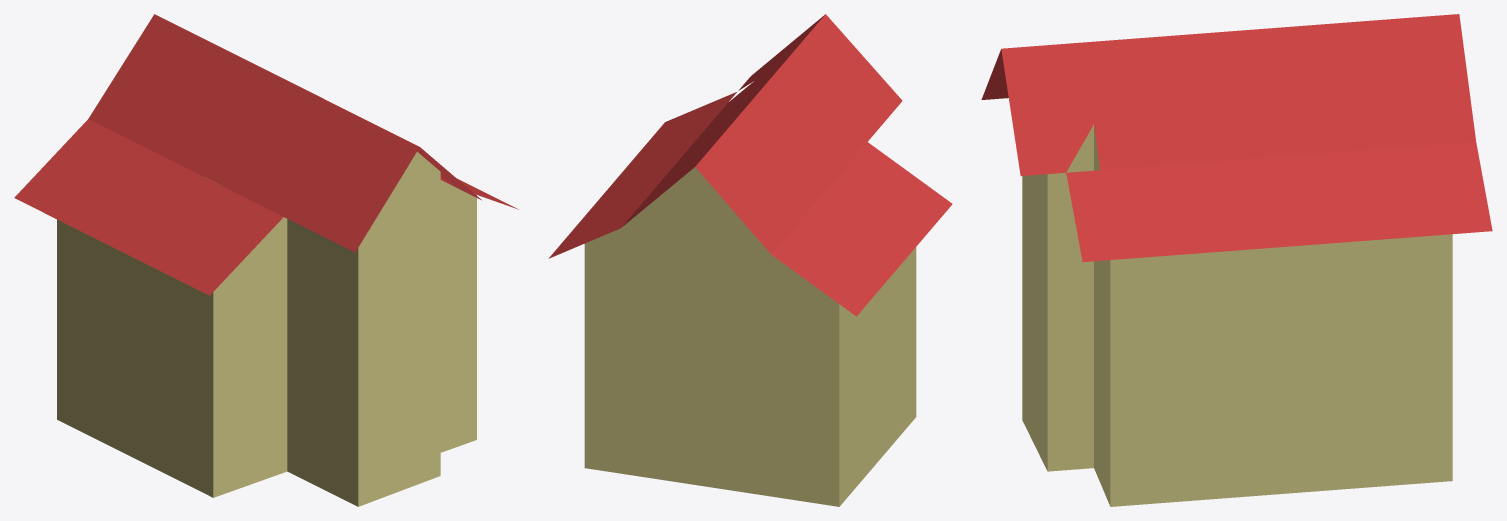
The picture shows the model from 3 angles, left to right: view 1: azimuth 30°, elevation 25°; view 2: azimuth 150°, elevation 25°; view 3: azimuth 270°, elevation 25°; orthographic projection. The views are drawn at different scales.
Size of the model in its own units: 13.48 by 14.85 by 12.83.
